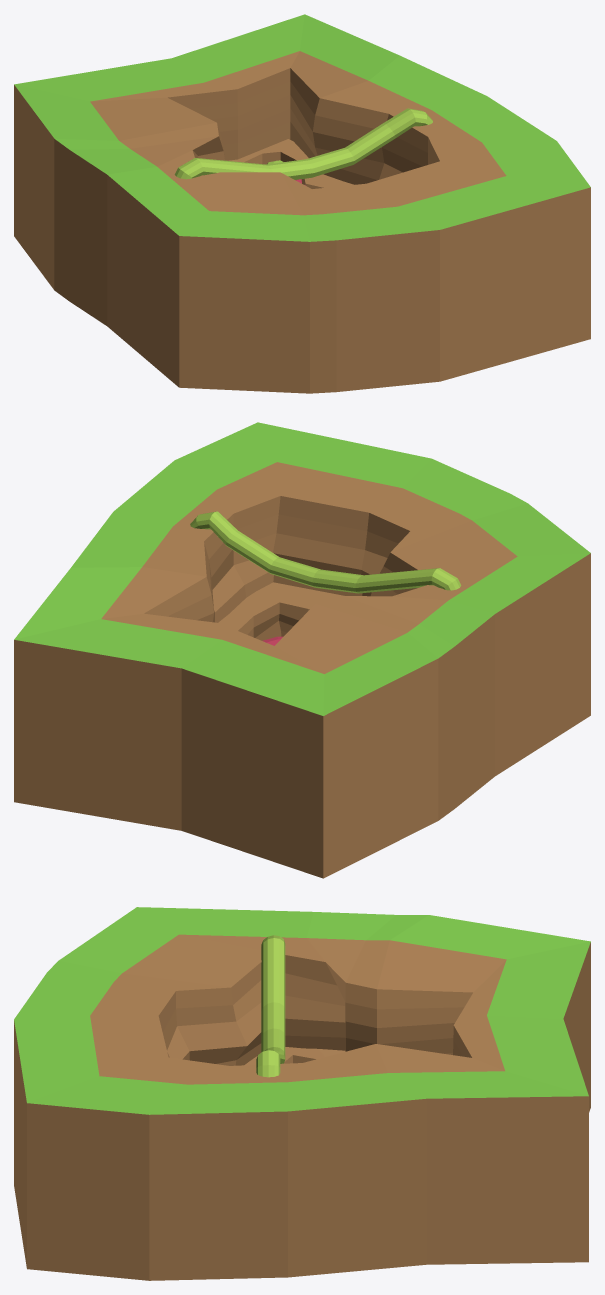
Rendered from Map.fbx.
3 renders of one model, top to bottom at view 1: azimuth 30°, elevation 25°; view 2: azimuth 150°, elevation 25°; view 3: azimuth 270°, elevation 25°, orthographic. The views are drawn at different scales.
Parts seen in each view (by area): view 1: Plane; view 2: Plane; view 3: Plane.
Part boxes in pixels (x1,y1,x2,y2): Plane: (14, 14, 590, 393); Plane: (14, 422, 590, 878); Plane: (14, 907, 590, 1280).
Bounding box in the file's own units: 38910 × 16862 × 46353.
